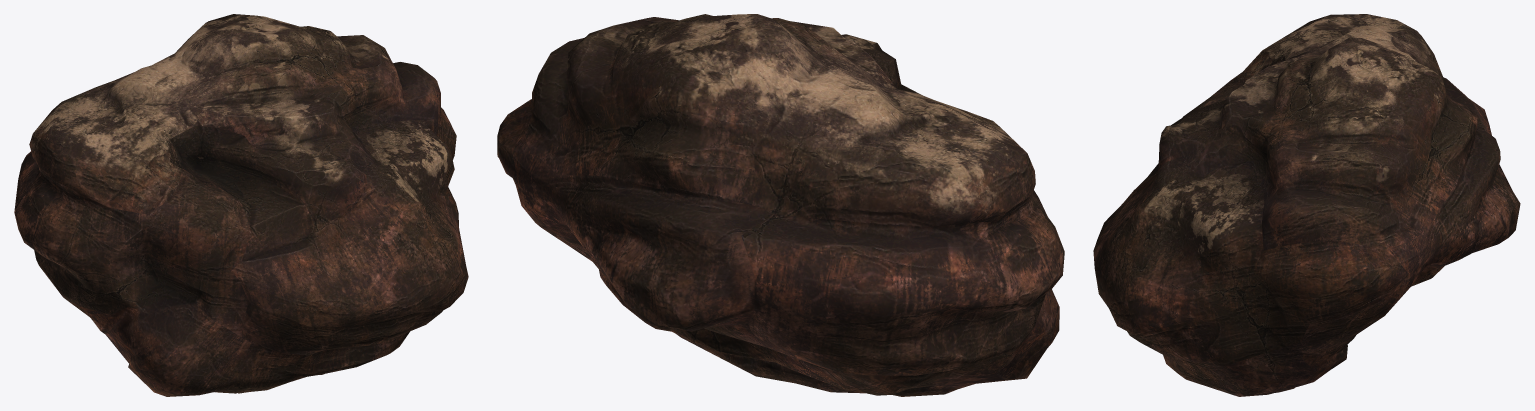
File: rock_red_medium01.dae
The picture shows the model from 3 angles, left to right: view 1: azimuth 30°, elevation 25°; view 2: azimuth 150°, elevation 25°; view 3: azimuth 270°, elevation 25°; orthographic projection. The views are drawn at different scales.
Parts seen in each view (by area): view 1: Mesh; view 2: Mesh; view 3: Mesh.
Part boxes in pixels (x1,y1,x2,y2): Mesh: (14, 14, 468, 396); Mesh: (497, 14, 1064, 396); Mesh: (1093, 14, 1520, 396).
Bounding box in the file's own units: 3.64 × 2.58 × 3.07.
